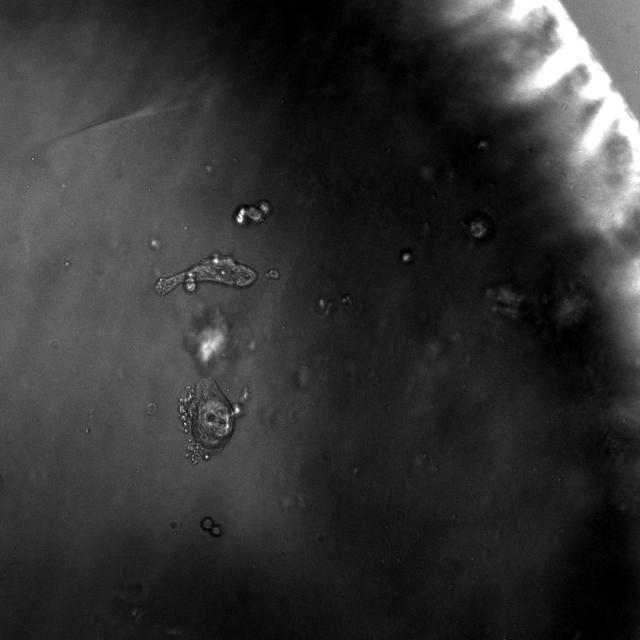organoid: (178, 378, 248, 464), (154, 252, 258, 296), (234, 199, 272, 224), (201, 517, 221, 536), (264, 269, 279, 279)
